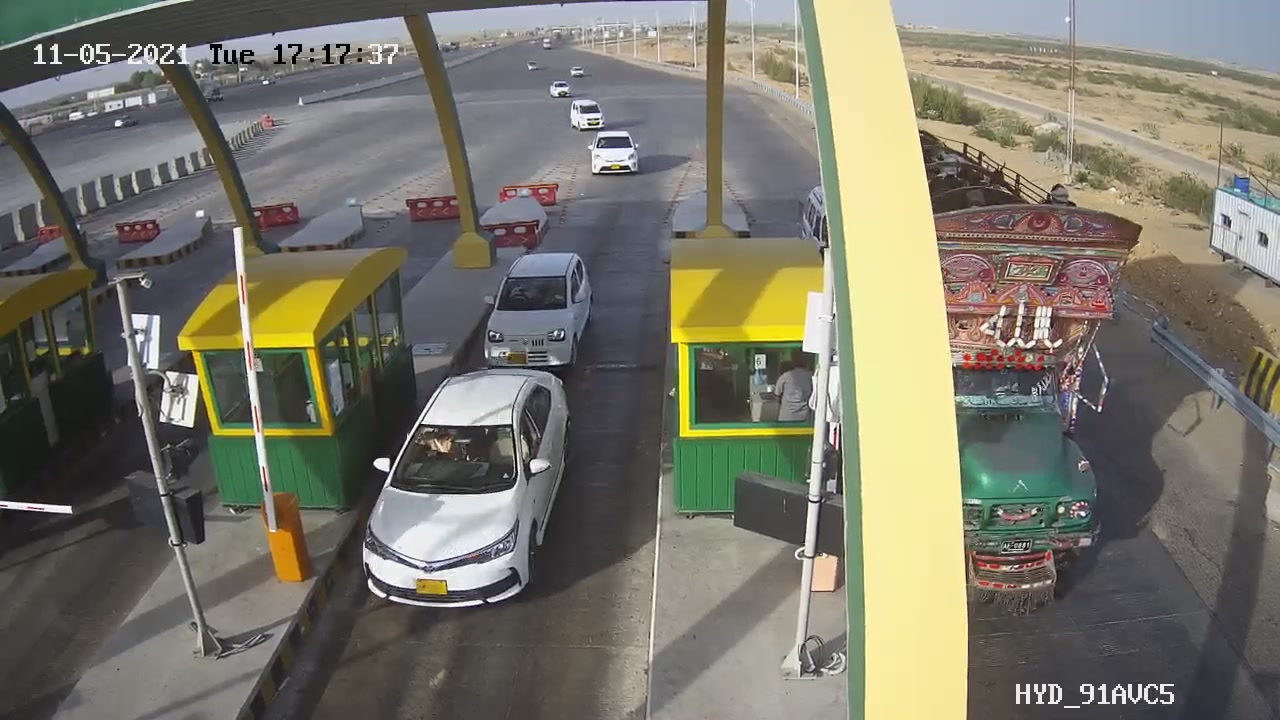F1: (344, 360, 586, 618), (469, 238, 608, 381)
